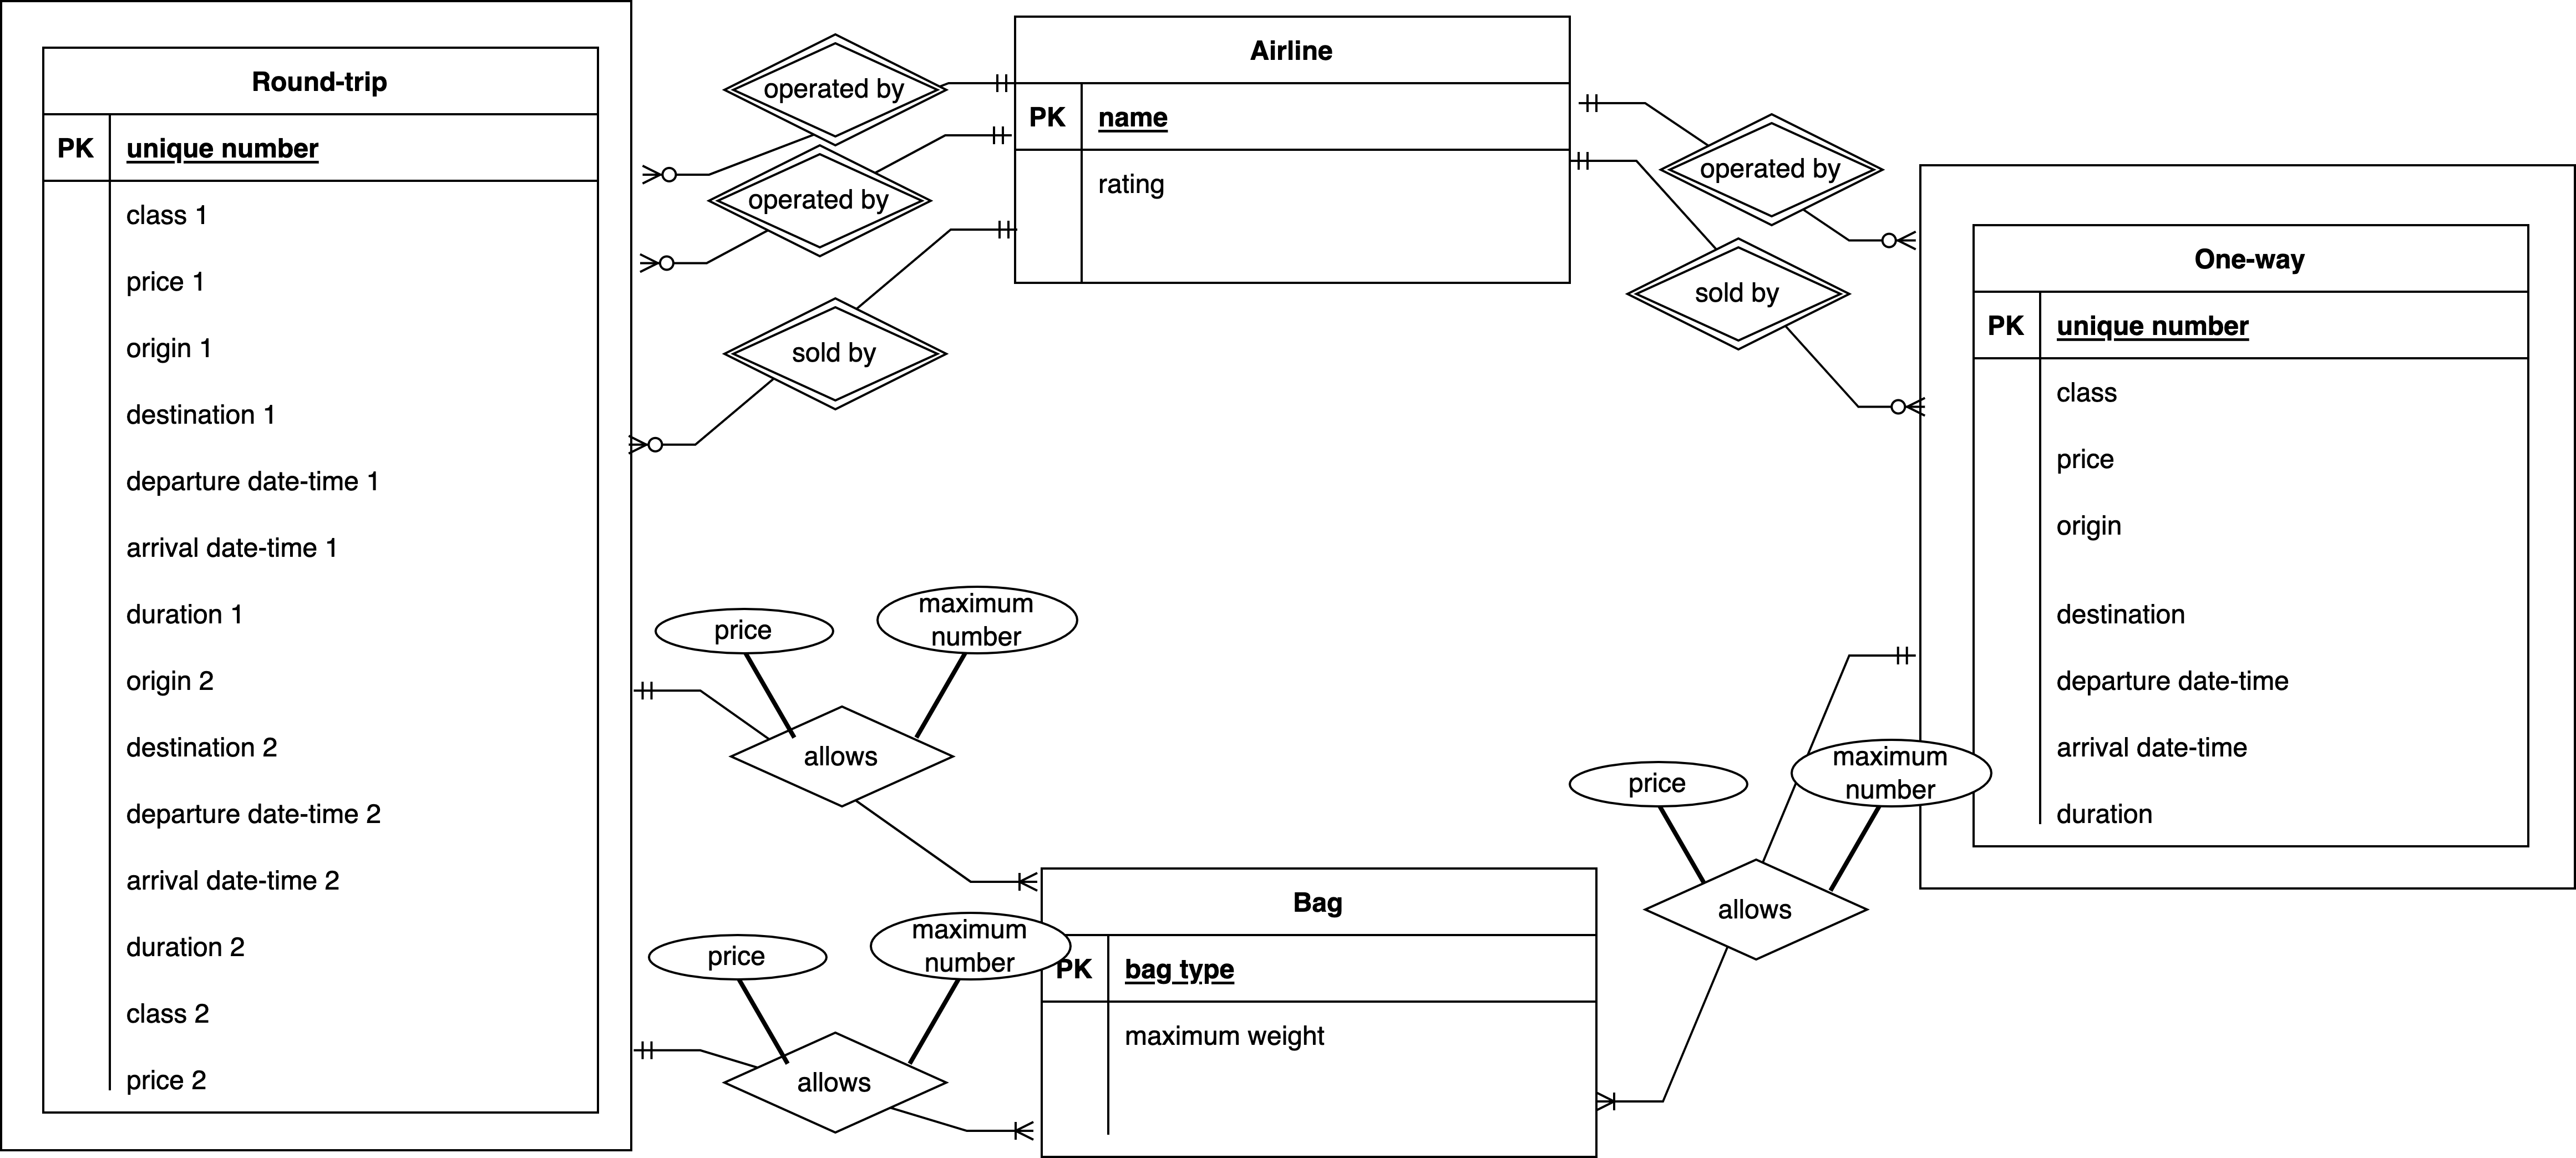entity: (1042, 871, 1597, 1158), (1012, 13, 1572, 284)
ident_rel: (711, 141, 936, 261), (720, 30, 951, 145), (1659, 113, 1881, 232), (726, 299, 950, 407), (1628, 240, 1848, 348)
many: (626, 409, 690, 466), (1865, 381, 1929, 435), (636, 151, 693, 202), (1868, 212, 1925, 260), (987, 859, 1046, 902), (634, 238, 690, 281), (1597, 1081, 1648, 1119), (987, 1110, 1042, 1145)
one: (956, 195, 1017, 251), (1567, 85, 1628, 128), (1567, 136, 1620, 186), (629, 667, 680, 715), (964, 56, 1010, 107), (964, 113, 1015, 158), (631, 1025, 674, 1074), (1870, 634, 1916, 669)
rel: (729, 705, 956, 806), (721, 1032, 951, 1130), (1640, 861, 1868, 959)
rel_attr: (872, 581, 1088, 657), (871, 912, 1074, 982), (1792, 741, 1989, 813), (1567, 754, 1750, 810), (652, 603, 835, 657), (646, 935, 833, 981)
weak_entity: (2, 2, 631, 1148), (1917, 163, 2574, 887)
